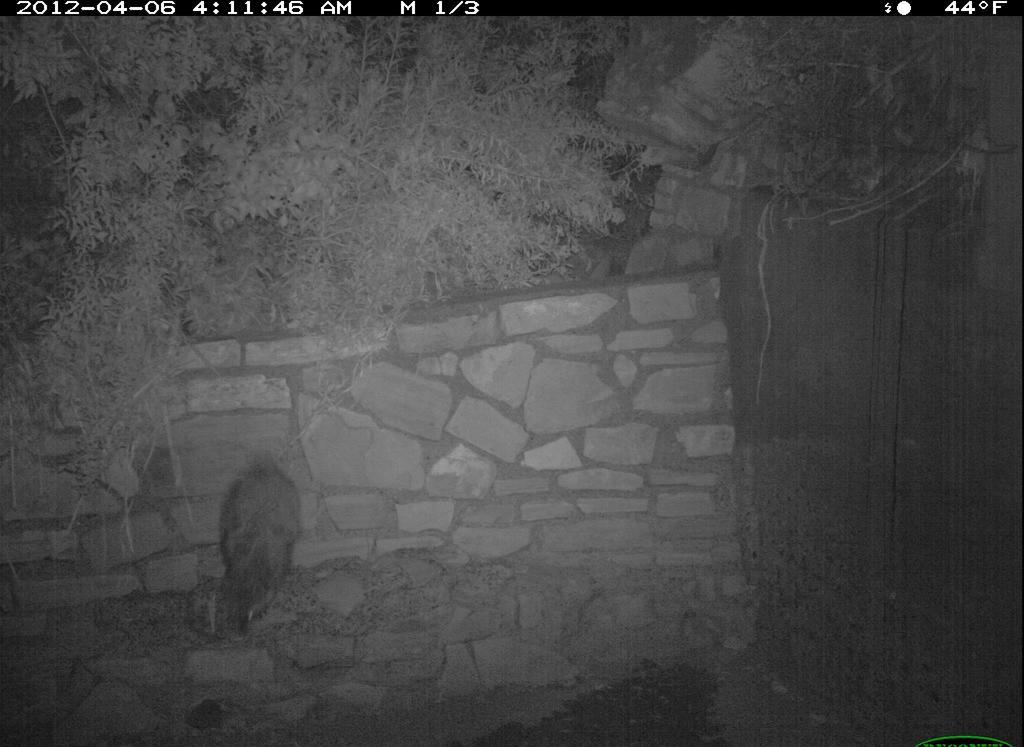raccoon: (207, 451, 314, 652)
